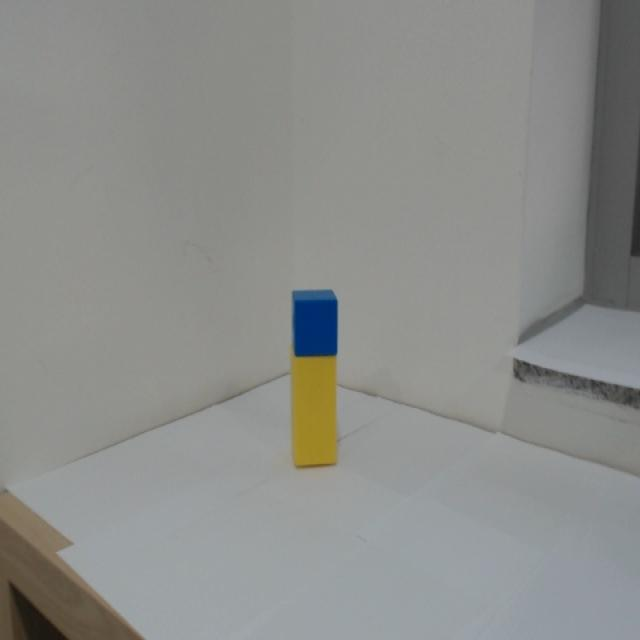cube: (291, 287, 338, 357)
